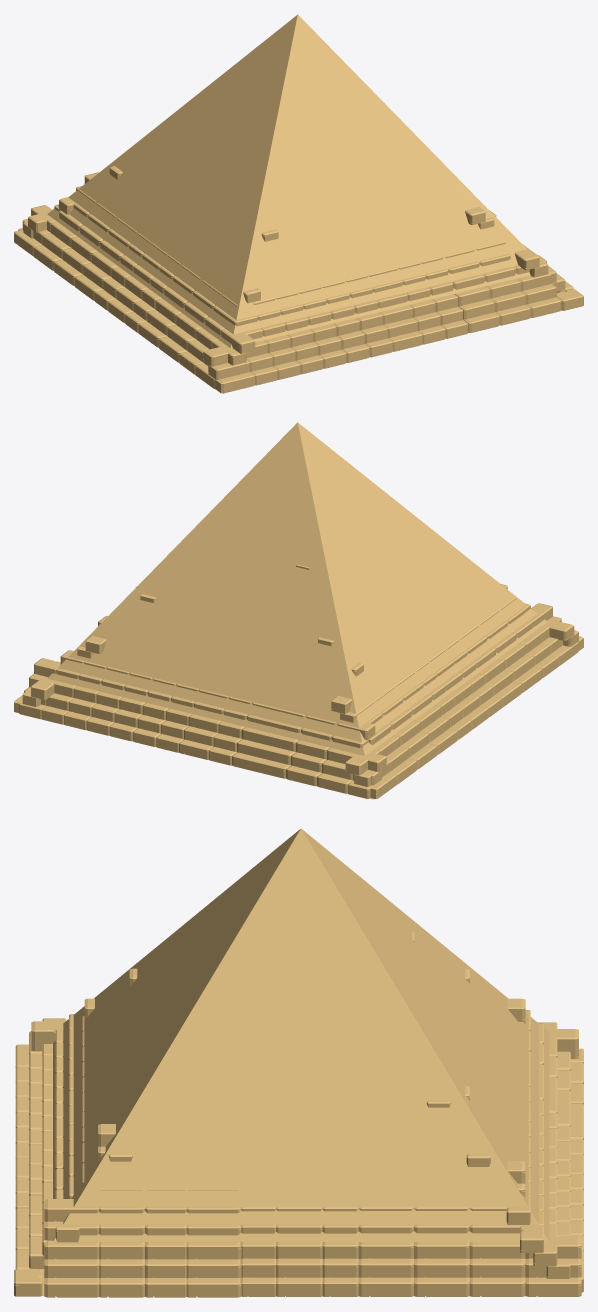
The model's file is Pyramids04.fbx.
3 views of the same model, one above another, from view 1: azimuth 30°, elevation 25°; view 2: azimuth 150°, elevation 25°; view 3: azimuth 270°, elevation 25° (orthographic). The views are drawn at different scales.
Parts seen in each view (by area): view 1: IV.pyramid; view 2: IV.pyramid; view 3: IV.pyramid.
Boxes of the visible parts, x1,y1,x2,y2 form: IV.pyramid: (14, 14, 583, 393); IV.pyramid: (14, 422, 583, 799); IV.pyramid: (14, 828, 583, 1297).
Bounding box in the file's own units: 7060 × 4787 × 7070.
